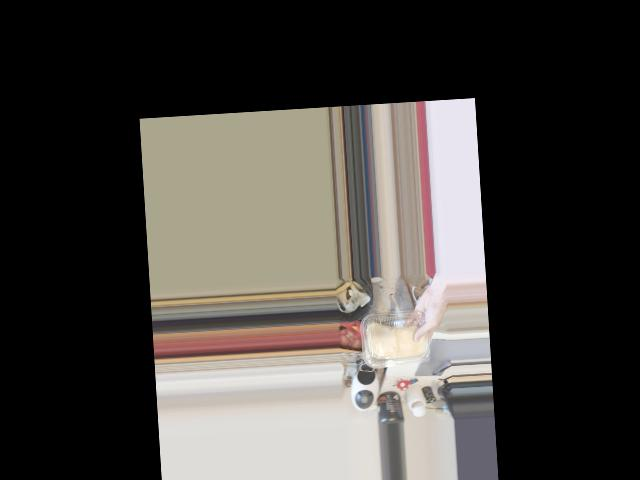cheese: (365, 306, 428, 373)
